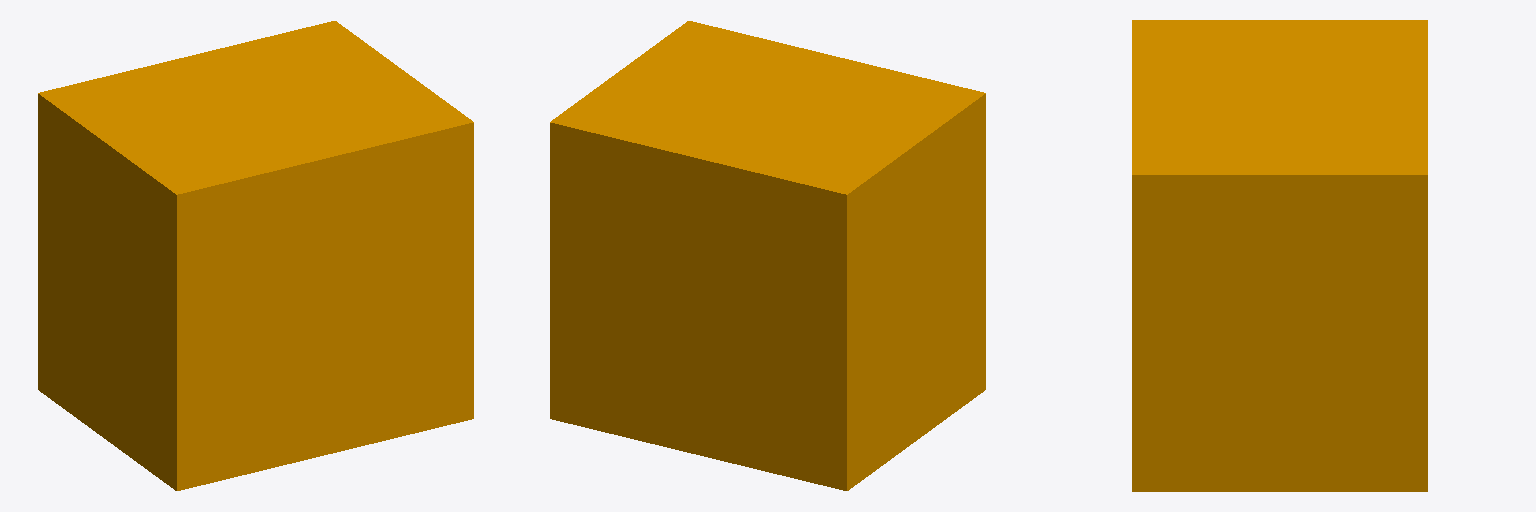
robot.urdf — object:
<robot name="object">
  <link name="object">
    <visual>
      <origin xyz="0 0 0" />
      <geometry>
        <box size="0.08400000000000002 0.068 0.08" />
      </geometry>
    </visual>

    <collision>
      <origin xyz="0 0 0" />
      <geometry>
        <box size="0.08400000000000002 0.068 0.08" />
      </geometry>
    </collision>

    <inertial>
      <mass value="0.05" />
      <inertia ixx="0.0001" ixy="0.0" ixz="0.0" iyy="0.0001" iyz="0.0" izz="0.0001" />
    </inertial>
  </link>
</robot>

--- What the picture shows (computed from the rendered views, not written in the file) ---
The picture shows the robot from 3 angles, left to right: view 1: azimuth 30°, elevation 25°; view 2: azimuth 150°, elevation 25°; view 3: azimuth 270°, elevation 25°; orthographic projection.
Robot: object — 1 links, 0 joints (none); root link object; default pose: all joints at 0.
Links seen in each view (by area): view 1: object; view 2: object; view 3: object.
Boxes of the visible links, x1,y1,x2,y2 form: object: [38, 21, 473, 490]; object: [550, 21, 985, 490]; object: [1132, 20, 1427, 491].
Size in the robot's own frame: 0.084 by 0.068 by 0.08 metres.
Geometry: primitives only (box / cylinder / sphere), no mesh files.